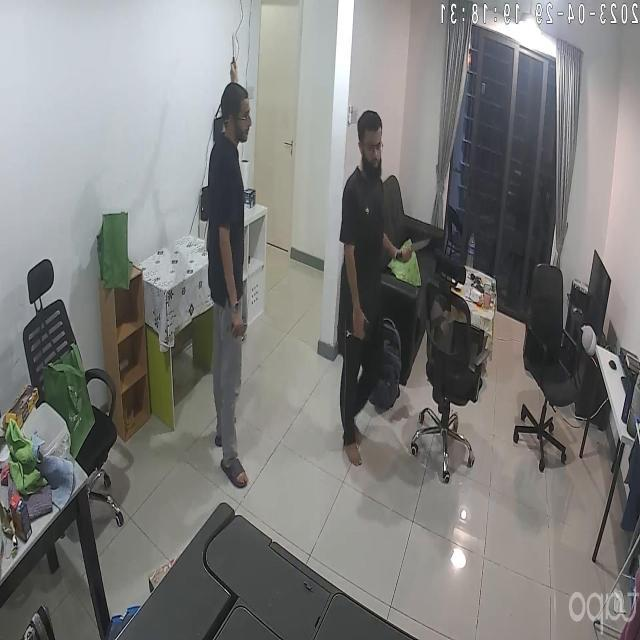Knife: (398, 228, 438, 262)
